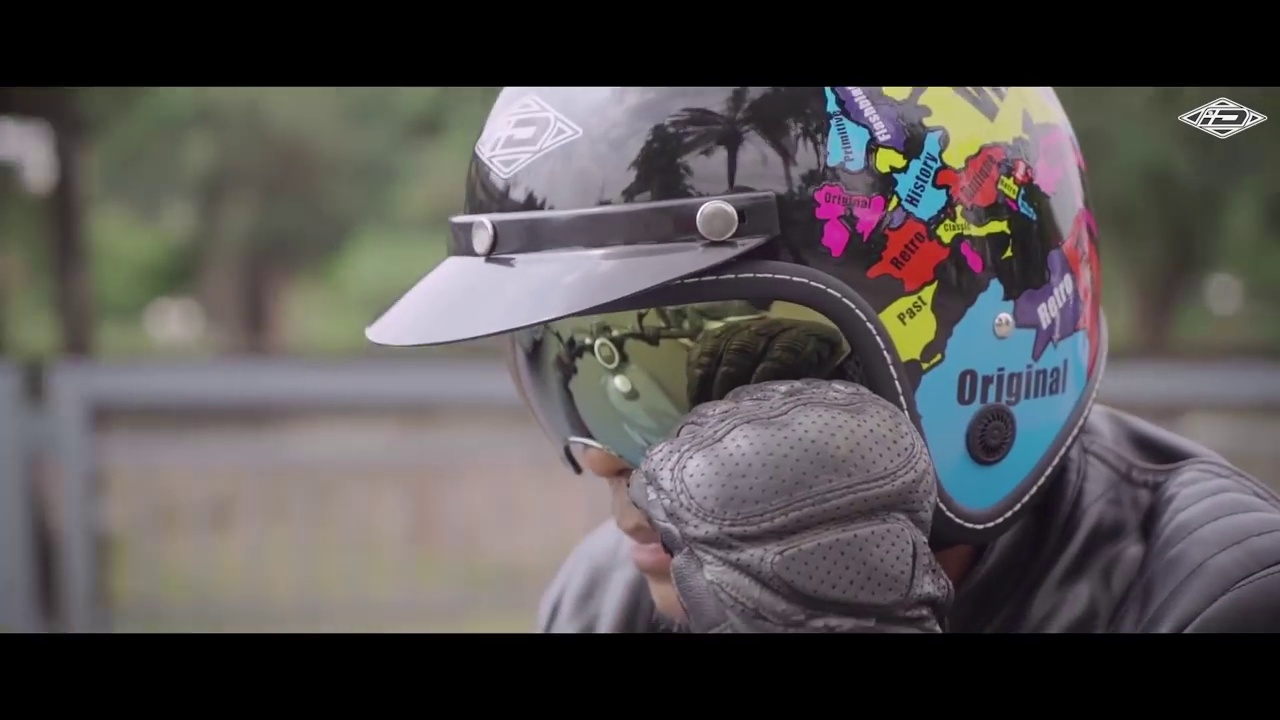helmet: (433, 80, 1118, 541)
